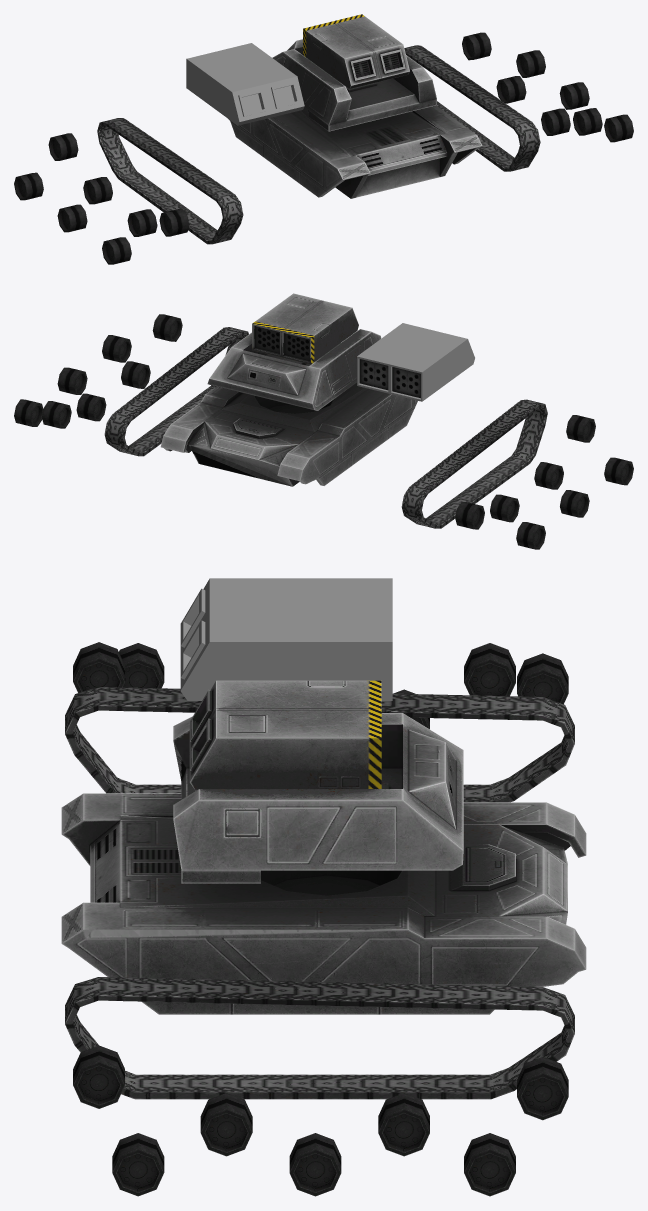
File: Hunter_ex.FBX
3 renders of one model, top to bottom at view 1: azimuth 30°, elevation 25°; view 2: azimuth 150°, elevation 25°; view 3: azimuth 270°, elevation 25°, orthographic. The views are drawn at different scales.
Visible parts, largest first — view 1: body, Object001, turret, trackr, launcher_1, trackl, wheel6, wheel11, wheel9, wheel4, wheel13, wheel5 (+8 smaller); view 2: body, turret, trackr, launcher_1, Object001, trackl, lrm20, wheel3, wheel10, wheel13, wheel9, wheel4 (+9 smaller); view 3: body, turret, trackl, Object001, launcher_1, trackr, wheel5, wheel6, wheel4, wheel3, wheel7, wheel1 (+5 smaller).
Boxes of the visible parts, x1,y1,x2,y2 form: body: (228,105,482,198); Object001: (186,43,304,125); turret: (272,39,436,131); trackr: (97,118,243,244); launcher_1: (303,14,409,88); trackl: (404,45,540,171); wheel6: (604,114,633,142); wheel11: (57,204,87,232); wheel9: (14,172,43,200); wheel4: (559,82,589,109); wheel13: (102,237,131,264); wheel5: (541,108,570,135); body: (160,382,417,486); turret: (207,329,381,410); trackr: (401,399,547,528); launcher_1: (252,293,358,364); Object001: (357,323,474,401); trackl: (104,327,248,456); lrm20: (359,359,420,398); wheel3: (76,393,106,421); wheel10: (490,494,519,522); wheel13: (604,457,633,485); wheel9: (516,522,545,549); wheel4: (57,367,87,394); body: (61,793,586,1014); turret: (173,713,463,883); trackl: (65,977,574,1099); Object001: (180,578,392,700); launcher_1: (189,680,381,790); trackr: (65,687,574,802); wheel5: (200,1093,252,1156); wheel6: (112,1133,164,1196); wheel4: (289,1133,341,1196); wheel3: (378,1093,429,1156); wheel7: (73,1045,124,1108); wheel1: (517,1057,568,1120).
Bounding box in the file's own units: 100 × 24.41 × 43.91.
Materials: 2 (1 with a texture image).
